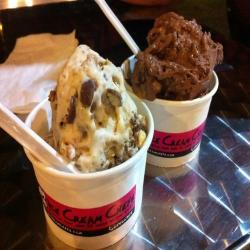icecream: (24, 35, 157, 182), (120, 6, 224, 112)
